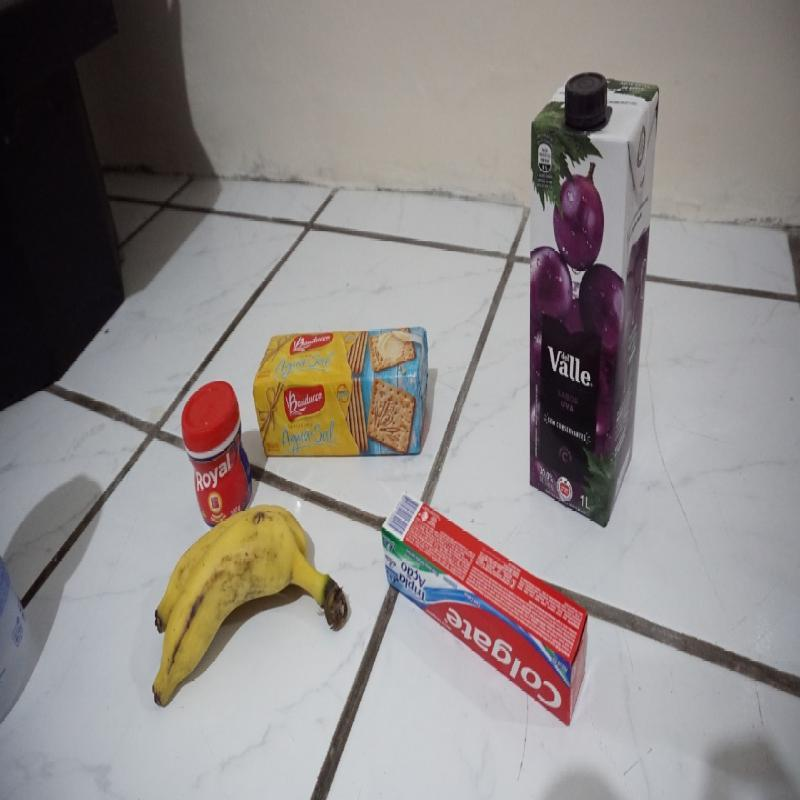Banana: (151, 511, 356, 708)
Cracker: (254, 329, 430, 459)
Toothpaste: (374, 491, 590, 729)
Yeast: (183, 379, 253, 514)
